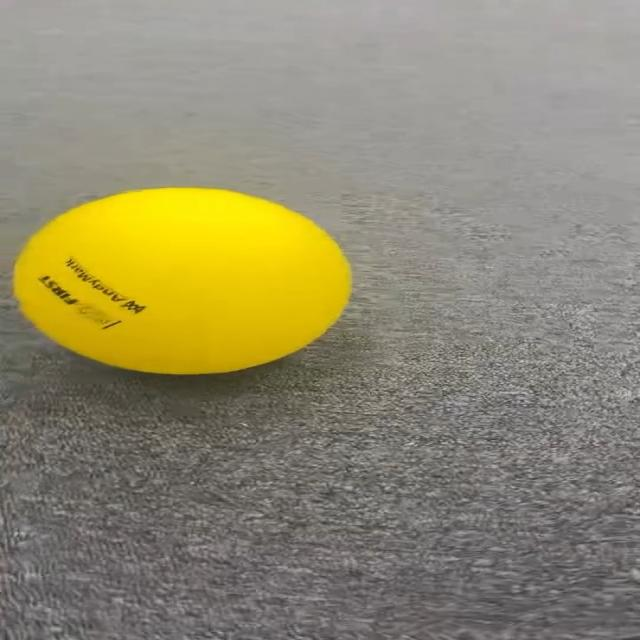Fuels: (14, 188, 351, 370)
